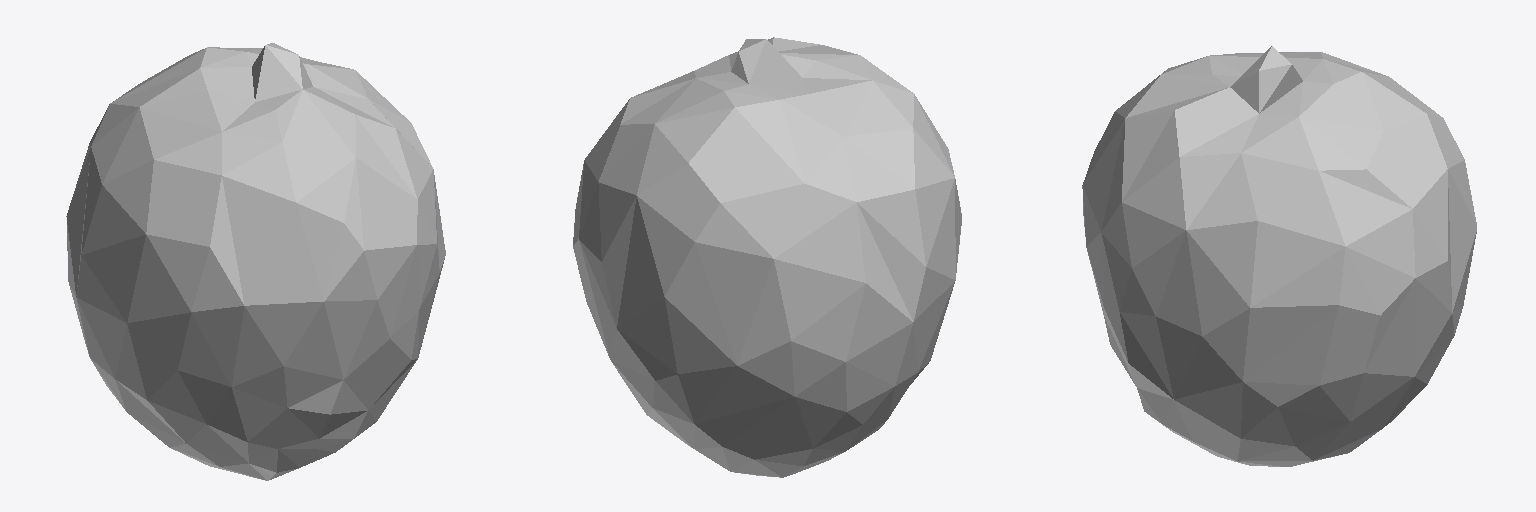
Rendered from lychee.obj.
3 views of the same model, side by side, from view 1: azimuth 30°, elevation 25°; view 2: azimuth 150°, elevation 25°; view 3: azimuth 270°, elevation 25° (orthographic).
Parts seen in each view (by area): view 1: food_lychee_01; view 2: food_lychee_01; view 3: food_lychee_01.
Boxes of the visible parts, box(x1,y1,x2,y2) form: food_lychee_01: box(66, 43, 445, 480); food_lychee_01: box(573, 37, 961, 477); food_lychee_01: box(1082, 46, 1476, 466).
Size of the model in its own units: 2.37 by 2.89 by 2.43.